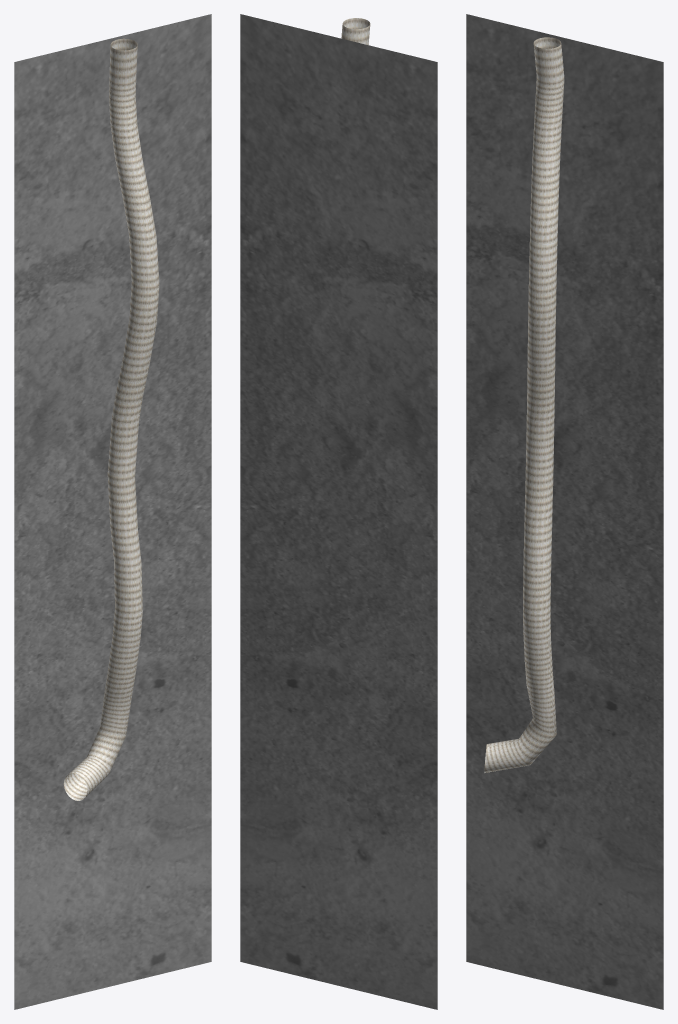
File: Wall3bis2.fbx
3 views of the same model, side by side, from view 1: azimuth 30°, elevation 25°; view 2: azimuth 150°, elevation 25°; view 3: azimuth 330°, elevation 25° (orthographic).
Visible parts, largest first — view 1: pasted__pPlane3, pCylinder1; view 2: pasted__pPlane3, pCylinder1; view 3: pasted__pPlane3, pCylinder1.
Boxes of the visible parts, left/top/right/bottom form: pasted__pPlane3: left=14, top=14, right=211, bottom=1009; pCylinder1: left=63, top=38, right=159, bottom=800; pasted__pPlane3: left=240, top=14, right=437, bottom=1009; pCylinder1: left=341, top=18, right=370, bottom=45; pasted__pPlane3: left=466, top=14, right=663, bottom=1009; pCylinder1: left=484, top=37, right=564, bottom=772.
Bounding box in the file's own units: 217 × 1000 × 65.39.
2 materials, 2 textured.
